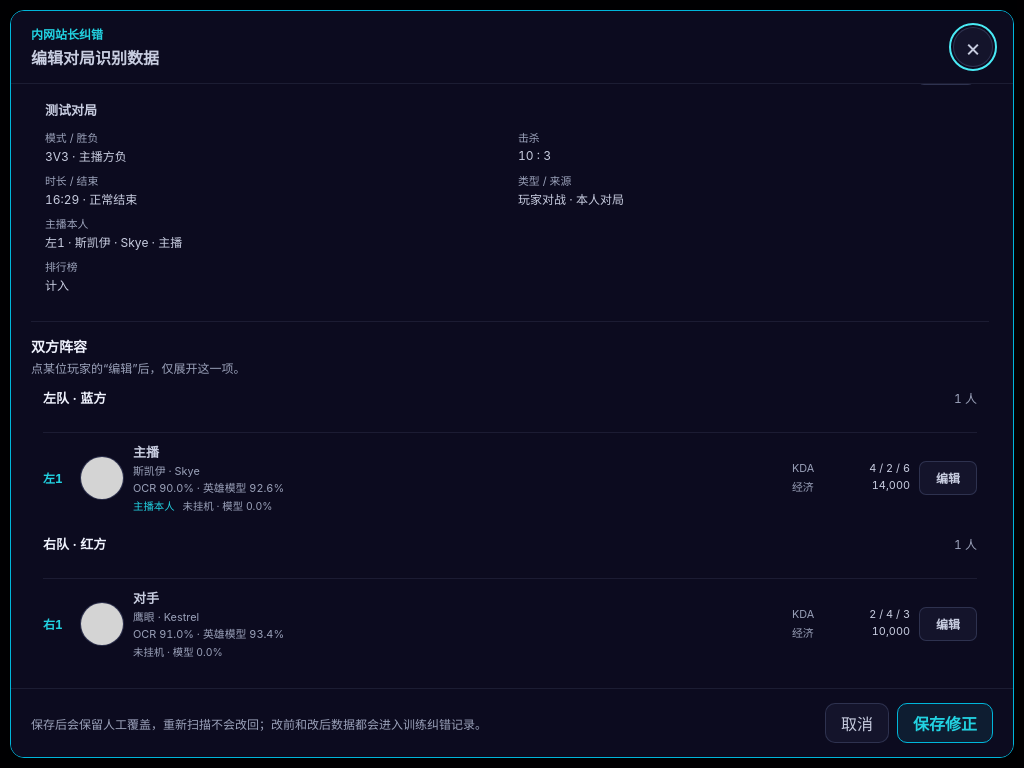
MatchAdminEditorModalComponent › uses the portrait picker to change a hero without native value matching
The image size is (1024, 768).
(page scrolled)
Click the button "编辑" next to "4 / 2 / 6" at [948, 478], box left=919, top=460, right=977, bottom=494
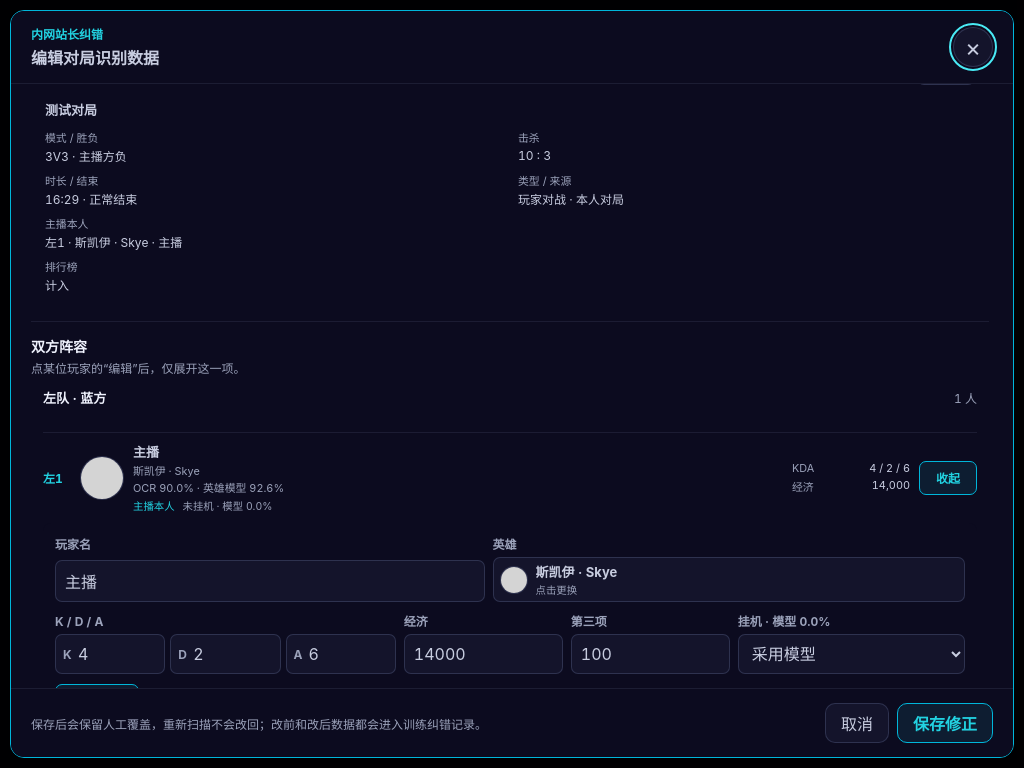
Click the button "斯凯伊 · Skye 点击更换" at [576, 572], box left=492, top=557, right=965, bottom=602
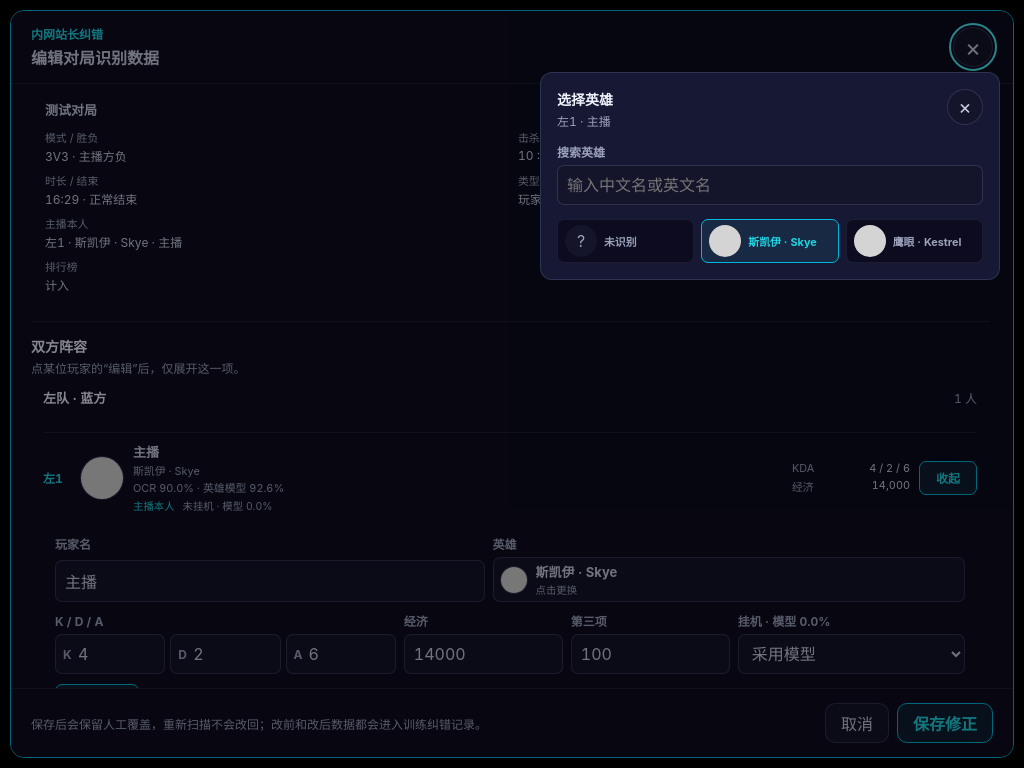
Check: the element showing "选择英雄 左1 · 主播 × 搜索英雄 ? 未识别 斯凯伊 · Skye 鹰眼 · Kestrel" is shown, box left=540, top=72, right=1000, bottom=280
